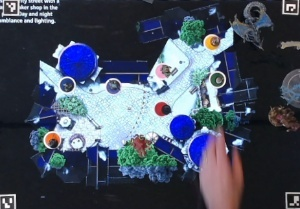blue: (56, 75, 77, 94)
green: (206, 69, 225, 88)
orange: (43, 130, 63, 152)
pink: (153, 62, 170, 79)
red: (151, 100, 173, 120)
violet: (104, 76, 122, 94)
yellow: (200, 32, 219, 51)
